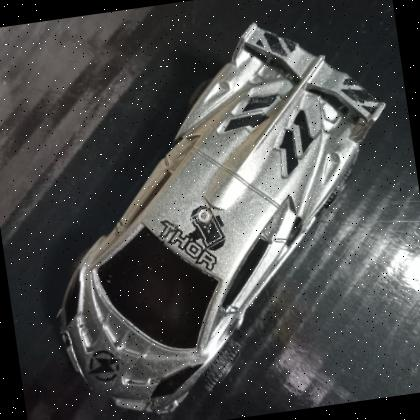Car: (9, 0, 420, 420)
